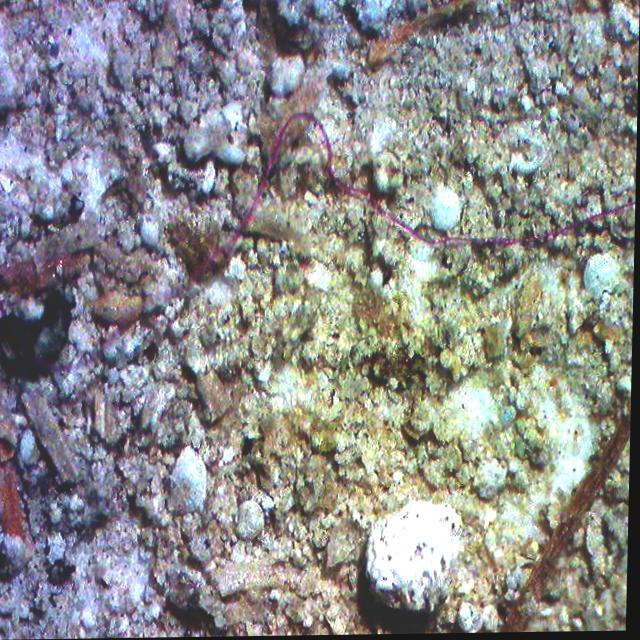microplastic: (49, 114, 636, 377)
